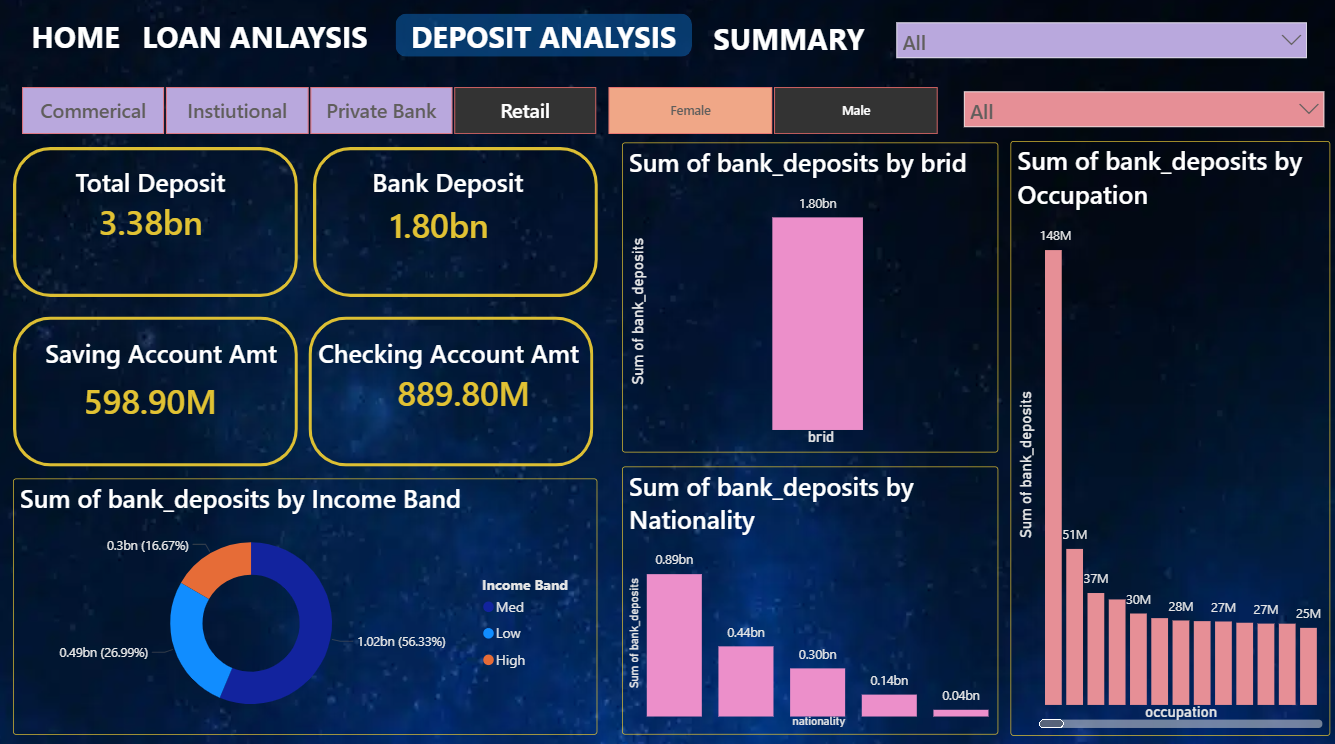

The dashboard page shown, as its layout file describes it:
{"tool":"powerbi","page":{"name":"Deposit Analysis","canvas":[1280,720],"ordinal":2},"visuals":[{"type":"shape","box":[0,0,154.3,79.5],"z":0},{"type":"shape","box":[114.5,11.1,267.2,57.3],"z":1000},{"type":"shape","box":[381.7,19.1,283.1,41.4],"z":2000},{"type":"shape","box":[666.5,4.8,184.5,76.3],"z":3000},{"type":"shape","box":[17.5,146.3,272,143.2],"z":4000},{"type":"shape","box":[303.8,146.3,272,143.2],"z":5000},{"type":"shape","box":[17.5,308.6,272,143.2],"z":6000},{"type":"shape","box":[299,308.6,272,143.2],"z":7000},{"type":"slicer","fields":{"Values":["Advanced_Cleaned_Messy2.joined_bank"]},"box":[851,17.5,412,58.9],"z":8000},{"type":"slicer","fields":{"Values":["Advanced_Cleaned_Messy2.brid"]},"box":[0,81.1,598.1,58.9],"z":9000},{"type":"slicer","fields":{"Values":["Advanced_Cleaned_Messy2.genderid"]},"box":[559.9,81.1,364.2,58.9],"z":10000},{"type":"slicer","fields":{"Values":["Advanced_Cleaned_Messy2.iaid"]},"box":[915.8,82.7,364.2,58.9],"z":11000},{"type":"donutChart","fields":{"Category":["Advanced_Cleaned_Messy2.Income Band "],"Y":["Sum(Advanced_Cleaned_Messy2.bank_deposits)"]},"box":[17.5,462.9,558.3,245],"z":12000},{"type":"clusteredColumnChart","fields":{"Category":["Advanced_Cleaned_Messy2.brid"],"Y":["Sum(Advanced_Cleaned_Messy2.bank_deposits)"]},"box":[598.1,141.6,359.5,295.9],"z":13000},{"type":"clusteredColumnChart","title":"Sum of bank_deposits by Nationality","fields":{"Y":["Sum(Advanced_Cleaned_Messy2.bank_deposits)"],"Category":["Advanced_Cleaned_Messy2.nationality"]},"box":[598.1,451.7,359.5,256.1],"z":14000},{"type":"clusteredColumnChart","title":"Sum of bank_deposits by Occupation","fields":{"Y":["Sum(Advanced_Cleaned_Messy2.bank_deposits)"],"Category":["Advanced_Cleaned_Messy2.occupation"]},"box":[970.3,140,305.4,567.8],"z":15000},{"type":"cardVisual","fields":{"Data":["Sum(Advanced_Cleaned_Messy2.saving_accounts)"]},"box":[55.7,349.9,210,74.8],"z":16000},{"type":"textbox","box":[71.6,157.5,168.6,47.7],"z":17000},{"type":"textbox","box":[354.7,157.5,160.7,62],"z":18000},{"type":"cardVisual","fields":{"Data":["Sum(Advanced_Cleaned_Messy2.bank_deposits)"]},"box":[348.3,181.3,184.5,74.8],"z":19000},{"type":"textbox","box":[42.9,321.3,254.5,57.3],"z":20000},{"type":"cardVisual","fields":{"Data":["Advanced_Cleaned_Messy2.Total Deposit"]},"box":[70,179.7,184.5,74.8],"z":21000},{"type":"cardVisual","fields":{"Data":["Sum(Advanced_Cleaned_Messy2.checking_accounts)"]},"box":[354.7,342,194.1,74.8],"z":22000},{"type":"textbox","box":[303.8,321.3,299,57.3],"z":23000}]}

Visuals, with their boxes in screenshot pixels (x1, y1, x2, y2), scaled from the page's 1280x720 canvas onto the 1335x744 screenshot:
shape: box=[0, 0, 161, 82]
shape: box=[119, 11, 398, 71]
shape: box=[398, 20, 693, 63]
shape: box=[695, 5, 888, 84]
shape: box=[18, 151, 302, 299]
shape: box=[317, 151, 601, 299]
shape: box=[18, 319, 302, 467]
shape: box=[312, 319, 596, 467]
slicer - Advanced_Cleaned_Messy2.joined_bank: box=[888, 18, 1317, 79]
slicer - Advanced_Cleaned_Messy2.brid: box=[0, 84, 624, 145]
slicer - Advanced_Cleaned_Messy2.genderid: box=[584, 84, 964, 145]
slicer - Advanced_Cleaned_Messy2.iaid: box=[955, 85, 1334, 146]
donutChart - Advanced_Cleaned_Messy2.Income Band  x Sum(Advanced_Cleaned_Messy2.bank_deposits): box=[18, 478, 601, 731]
clusteredColumnChart - Advanced_Cleaned_Messy2.brid x Sum(Advanced_Cleaned_Messy2.bank_deposits): box=[624, 146, 999, 452]
"Sum of bank_deposits by Nationality" clusteredColumnChart: box=[624, 467, 999, 731]
"Sum of bank_deposits by Occupation" clusteredColumnChart: box=[1012, 145, 1331, 731]
cardVisual - Sum(Advanced_Cleaned_Messy2.saving_accounts): box=[58, 362, 277, 439]
textbox: box=[75, 163, 251, 212]
textbox: box=[370, 163, 538, 227]
cardVisual - Sum(Advanced_Cleaned_Messy2.bank_deposits): box=[363, 187, 556, 265]
textbox: box=[45, 332, 310, 391]
cardVisual - Advanced_Cleaned_Messy2.Total Deposit: box=[73, 186, 265, 263]
cardVisual - Sum(Advanced_Cleaned_Messy2.checking_accounts): box=[370, 353, 572, 431]
textbox: box=[317, 332, 629, 391]
